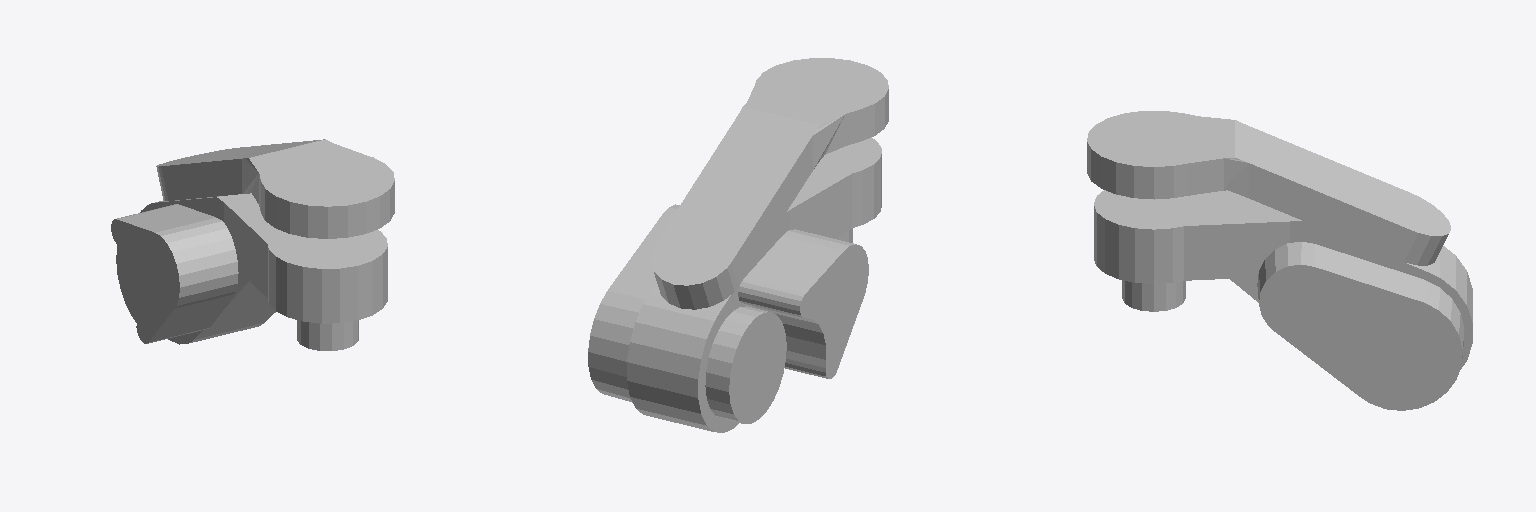
File: LWP.obj
The picture shows the model from 3 angles: view 1: azimuth 30°, elevation 25°; view 2: azimuth 150°, elevation 25°; view 3: azimuth 270°, elevation 25°; orthographic projection.
Visible parts, largest first — view 1: Shape_IndexedFaceSet.003_Shape_IndexedFaceSet.101, Shape_IndexedFaceSet.001_Shape_IndexedFaceSet.099, Shape_IndexedFaceSet.004_Shape_IndexedFaceSet.102, Shape_IndexedFaceSet_Shape_IndexedFaceSet.098; view 2: Shape_IndexedFaceSet.001_Shape_IndexedFaceSet.099, Shape_IndexedFaceSet.003_Shape_IndexedFaceSet.101, Shape_IndexedFaceSet.004_Shape_IndexedFaceSet.102, Shape_IndexedFaceSet_Shape_IndexedFaceSet.098, Shape_IndexedFaceSet.002_Shape_IndexedFaceSet.100; view 3: Shape_IndexedFaceSet.001_Shape_IndexedFaceSet.099, Shape_IndexedFaceSet.002_Shape_IndexedFaceSet.100, Shape_IndexedFaceSet.003_Shape_IndexedFaceSet.101.
Part boxes in pixels (x1,y1,x2,y2): Shape_IndexedFaceSet.003_Shape_IndexedFaceSet.101: (140,193,387,350); Shape_IndexedFaceSet.001_Shape_IndexedFaceSet.099: (156,139,394,238); Shape_IndexedFaceSet.004_Shape_IndexedFaceSet.102: (111,204,238,343); Shape_IndexedFaceSet_Shape_IndexedFaceSet.098: (116,245,136,322); Shape_IndexedFaceSet.001_Shape_IndexedFaceSet.099: (650,58,888,309); Shape_IndexedFaceSet.003_Shape_IndexedFaceSet.101: (627,137,881,432); Shape_IndexedFaceSet.004_Shape_IndexedFaceSet.102: (738,229,868,378); Shape_IndexedFaceSet_Shape_IndexedFaceSet.098: (705,306,786,423); Shape_IndexedFaceSet.002_Shape_IndexedFaceSet.100: (588,204,679,402); Shape_IndexedFaceSet.001_Shape_IndexedFaceSet.099: (1087,111,1450,265); Shape_IndexedFaceSet.002_Shape_IndexedFaceSet.100: (1257,242,1464,410); Shape_IndexedFaceSet.003_Shape_IndexedFaceSet.101: (1094,190,1472,369).
Bounding box in the file's own units: 0.0745 × 0.0978 × 0.1407.